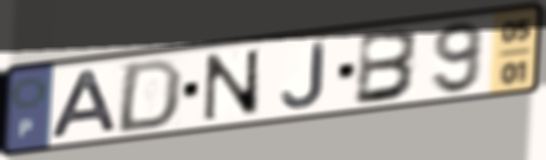9: (429, 19, 486, 96)
A: (48, 66, 121, 141)
B: (351, 27, 424, 108)
D: (112, 56, 187, 136)
J: (279, 39, 327, 111)
N: (202, 47, 263, 123)
